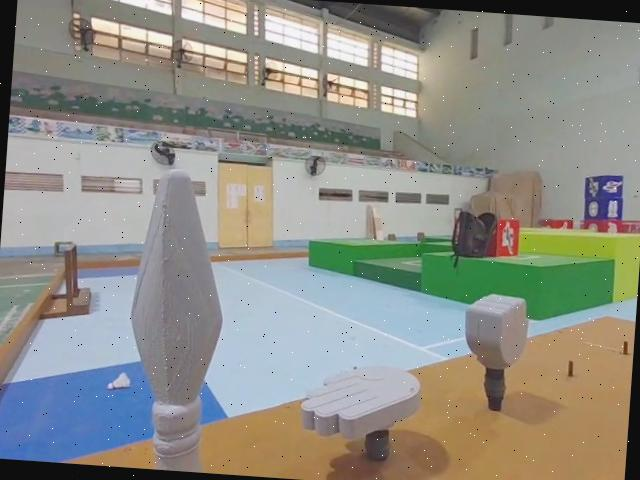Fist: (454, 287, 530, 415)
Hand: (296, 355, 421, 469)
Sph: (115, 155, 231, 472)
